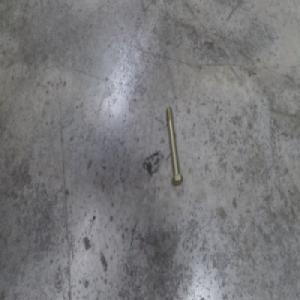Bolt: (165, 105, 181, 184)
